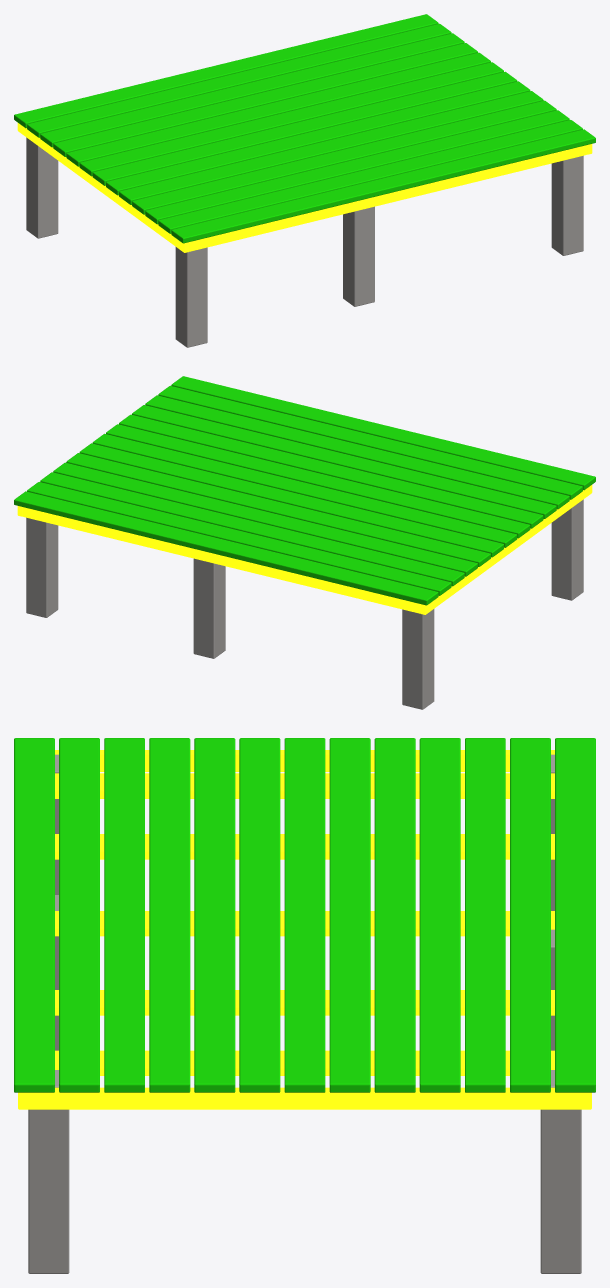
Rendered from Wooden Dock v3.fbx.
3 renders of one model, top to bottom at view 1: azimuth 30°, elevation 25°; view 2: azimuth 150°, elevation 25°; view 3: azimuth 270°, elevation 25°, orthographic. The views are drawn at different scales.
Visible parts, largest first — view 1: Dockv2.025; view 2: Dockv2.025; view 3: Dockv2.025.
Boxes of the visible parts, bbox=[...] form: Dockv2.025: bbox=[14, 14, 595, 347]; Dockv2.025: bbox=[14, 376, 595, 709]; Dockv2.025: bbox=[14, 738, 595, 1273].
Bounding box in the file's own units: 400 × 106 × 284.
